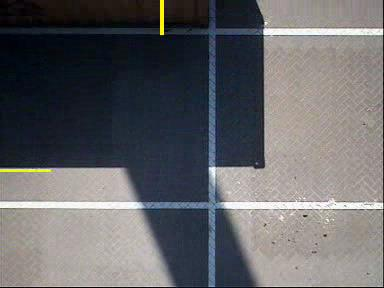groundmarker_2: (144, 188, 217, 237)
